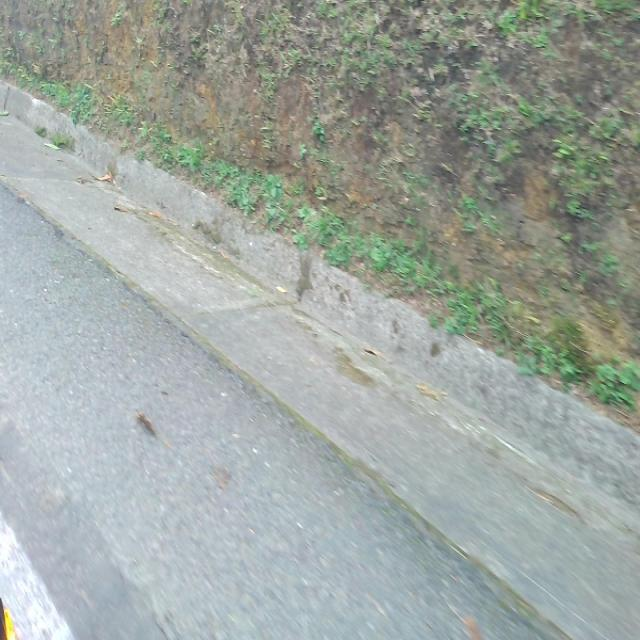DITCH: (4, 0, 638, 638), (1, 78, 638, 638)
